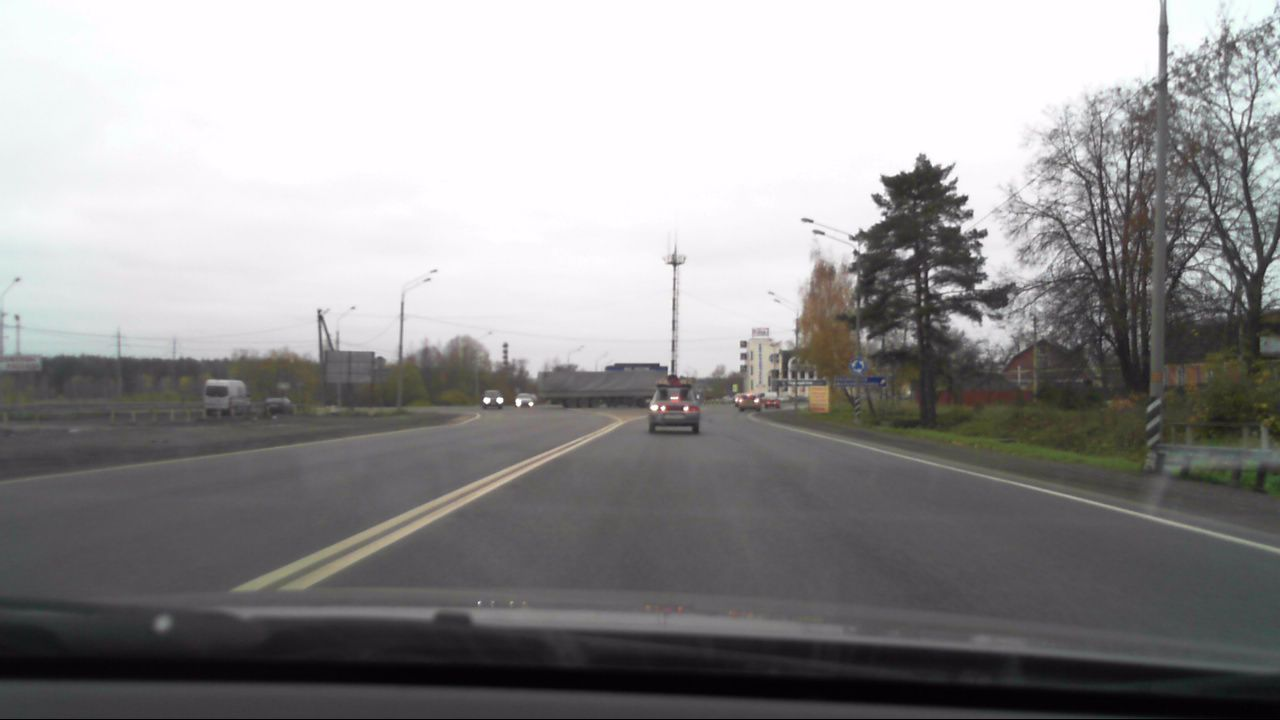Round-About: (847, 356, 867, 373)
